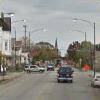Car: (54, 62, 79, 88)
